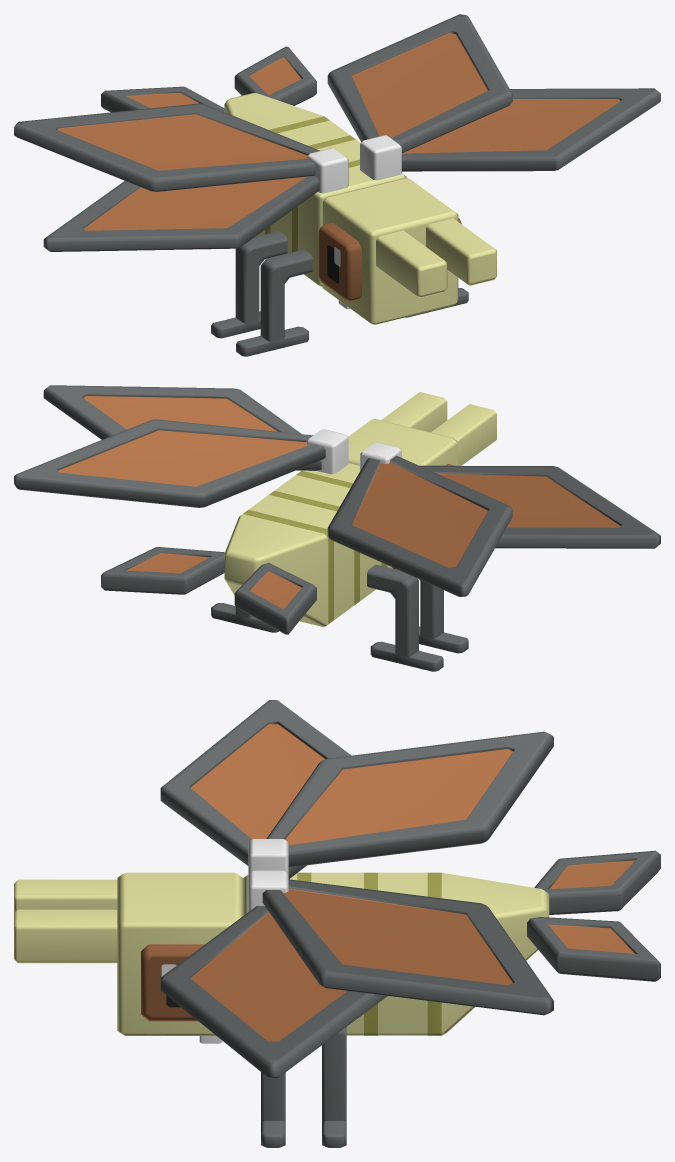
Rendered from model_shiny.obj.
3 views of the same model, one above another, from view 1: azimuth 30°, elevation 25°; view 2: azimuth 150°, elevation 25°; view 3: azimuth 270°, elevation 25° (orthographic). The views are drawn at different scales.
Visible parts, largest first — view 1: 0329_vibrava_shiny; view 2: 0329_vibrava_shiny; view 3: 0329_vibrava_shiny.
Part boxes in pixels (box(x1,y1,x2,y2)): 0329_vibrava_shiny: box(14, 14, 660, 356); 0329_vibrava_shiny: box(14, 385, 660, 671); 0329_vibrava_shiny: box(14, 700, 660, 1147).
Size of the model in its own units: 4.06 by 1.14 by 3.04.
1 material, 1 textured.
